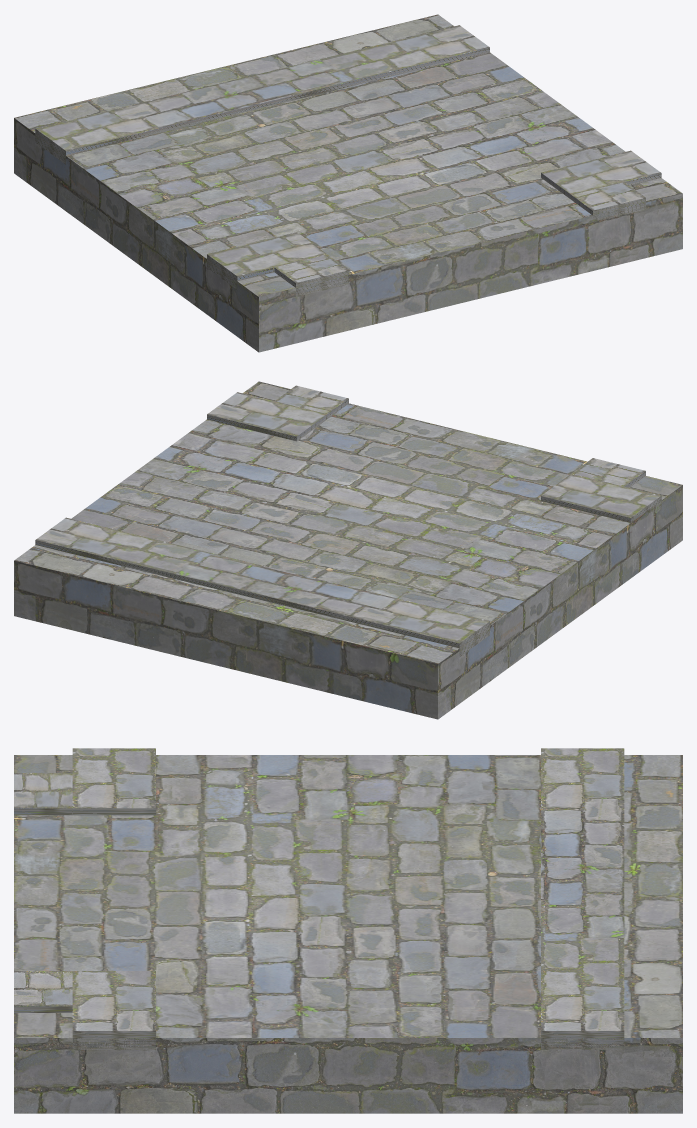
File: GND_Flat_02x02_city_cobble_tintersection_A.glb
3 views of the same model, one above another, from view 1: azimuth 30°, elevation 25°; view 2: azimuth 150°, elevation 25°; view 3: azimuth 270°, elevation 25° (orthographic). The views are drawn at different scales.
Visible parts, largest first — view 1: ground.003, rails.005, rails.002, rails.007; view 2: ground.003, rails.005, rails.002, rails.007; view 3: ground.003, rails.005, rails.007, rails.002.
Part boxes in pixels (<box>): ground.003: <box>14,14,682,352</box>; rails.005: <box>35,25,489,164</box>; rails.002: <box>207,232,348,296</box>; rails.007: <box>541,150,661,221</box>; ground.003: <box>14,381,682,719</box>; rails.005: <box>35,517,489,656</box>; rails.002: <box>541,458,661,522</box>; rails.007: <box>207,385,348,441</box>; ground.003: <box>14,755,682,1113</box>; rails.005: <box>541,748,624,1049</box>; rails.007: <box>14,971,155,1049</box>; rails.002: <box>14,748,155,815</box>.
Bounding box in the file's own units: 2 × 0.2723 × 2.
Materials: 3 (3 with a texture image).
